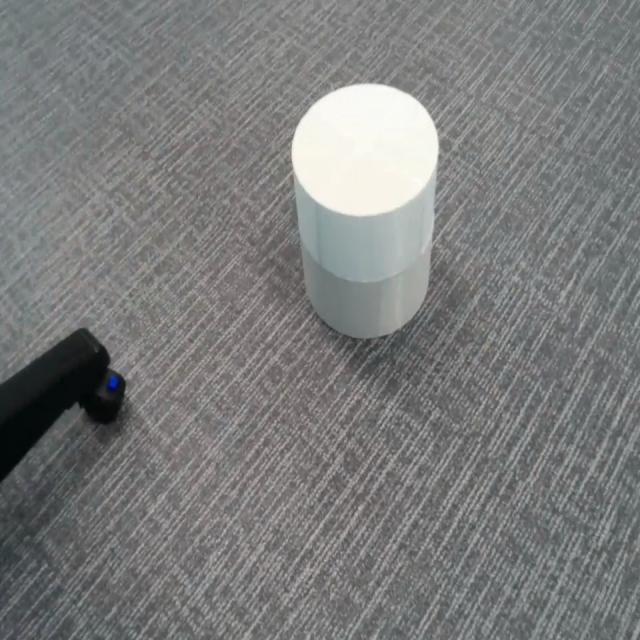cylinder: (290, 80, 439, 340)
